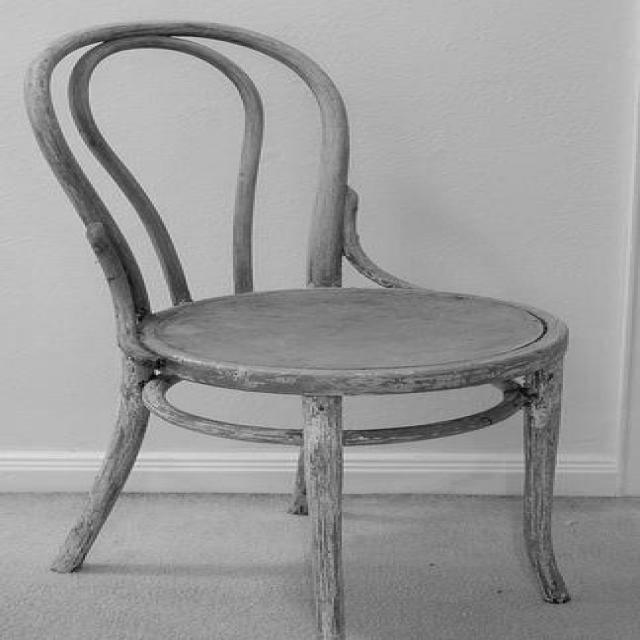chair: (17, 21, 574, 640)
